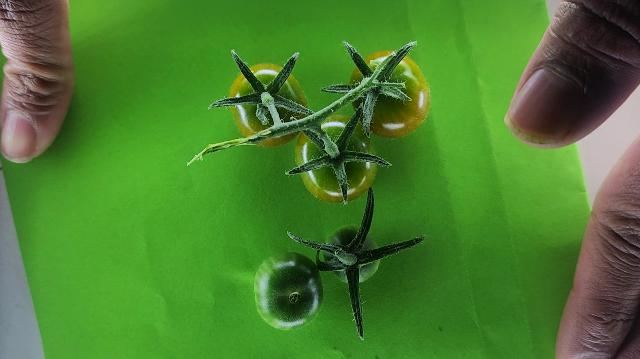Fruit Maturation: (253, 251, 326, 332)
Fully Grown: (296, 113, 378, 204), (348, 50, 431, 139), (229, 63, 309, 146), (323, 228, 380, 286)
